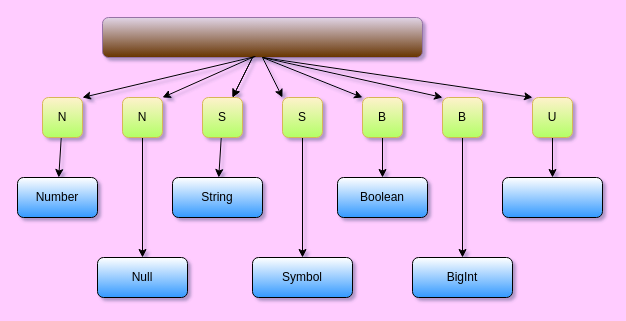
Image size: 626x321. Some labels were removed from this diagram. The centre of each missing label's shape, as x and y in pixels:
Primitive Data Types: (262,37)
Undefined: (552,197)
